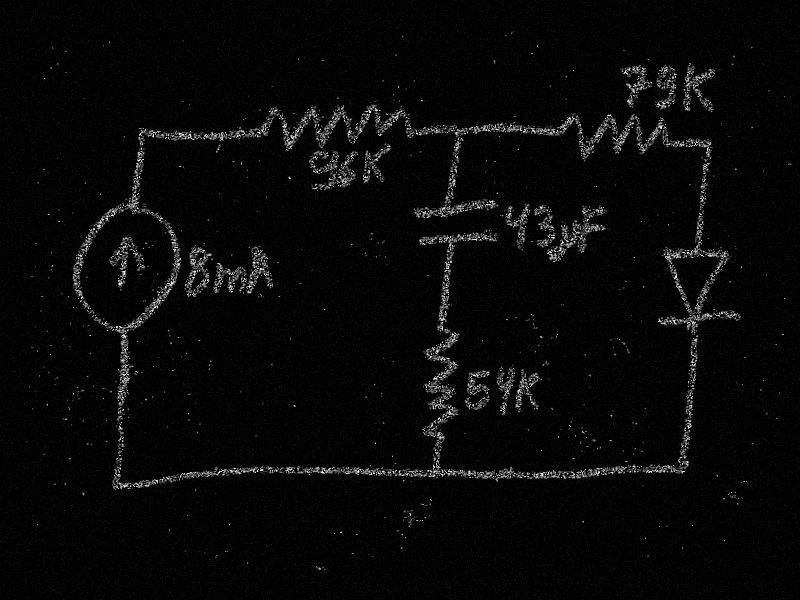3: (529, 203, 559, 250)
4: (501, 200, 532, 254), (493, 363, 516, 418)
5: (462, 368, 492, 413)
6: (337, 148, 359, 191)
7: (616, 62, 655, 109)
8: (182, 244, 214, 299)
9: (306, 149, 340, 194), (651, 64, 680, 111)
A: (246, 245, 276, 297)
F: (577, 204, 608, 253)
k: (680, 61, 719, 115), (361, 143, 391, 186), (515, 367, 542, 414)
m: (210, 261, 248, 297)
u: (554, 219, 580, 261)
